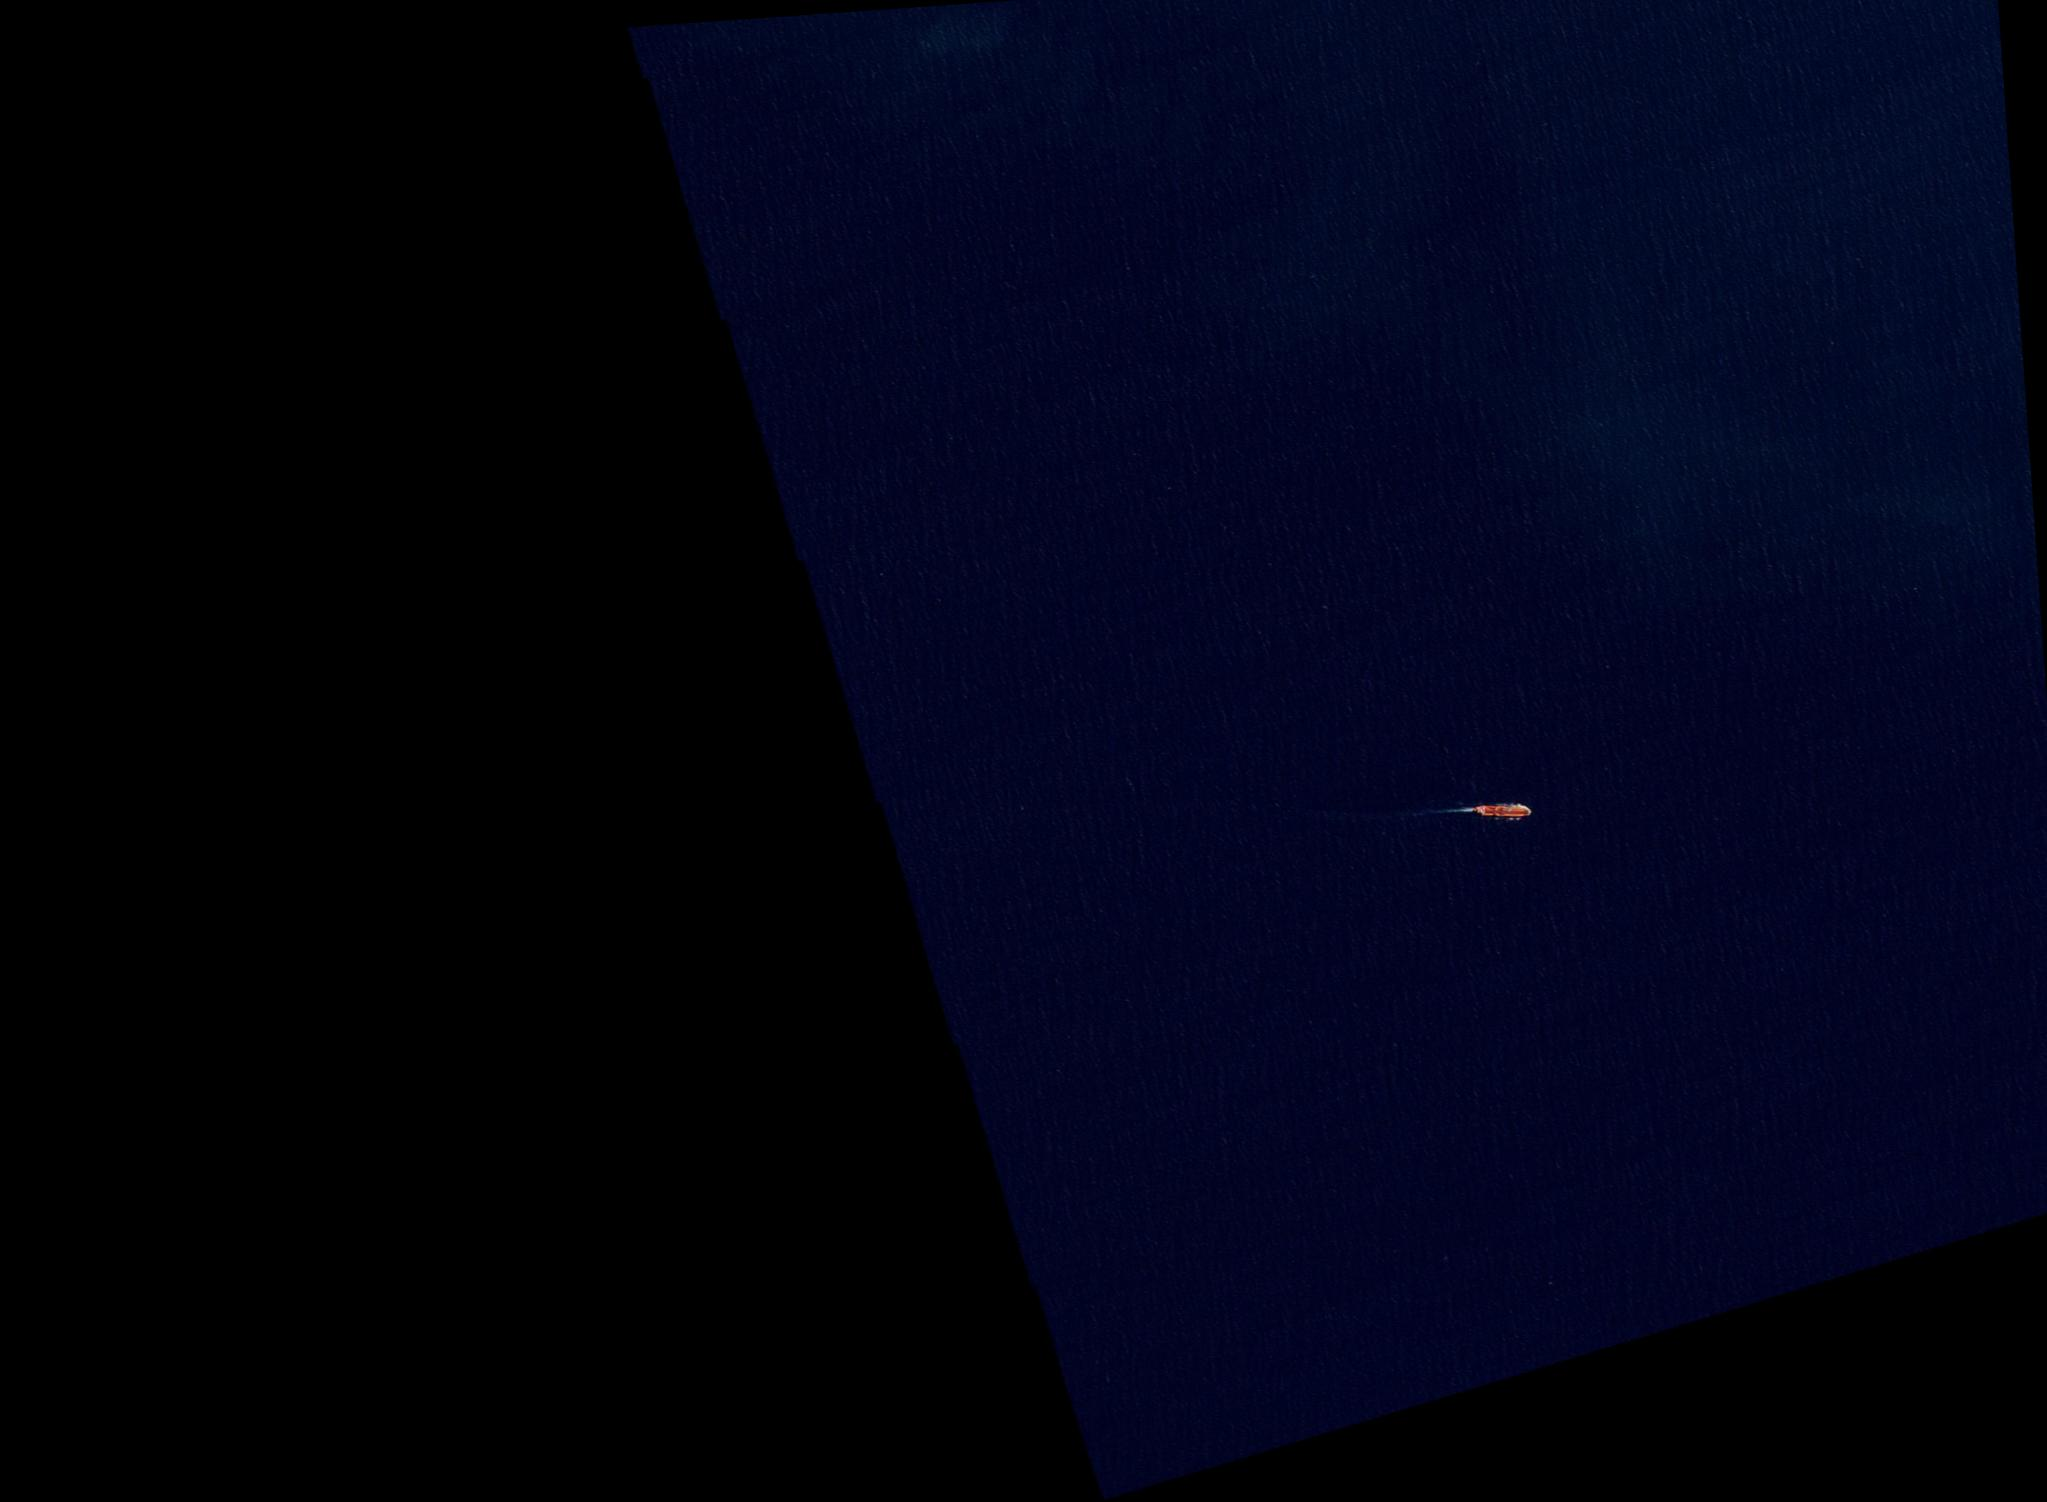ship: (1472, 798, 1532, 819)
